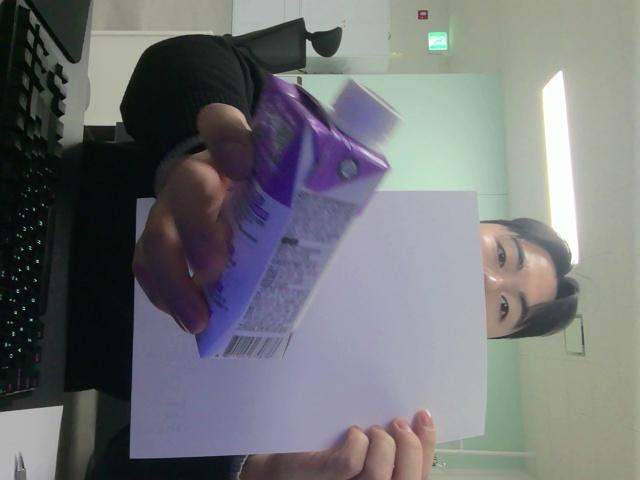milk: (197, 77, 398, 357)
